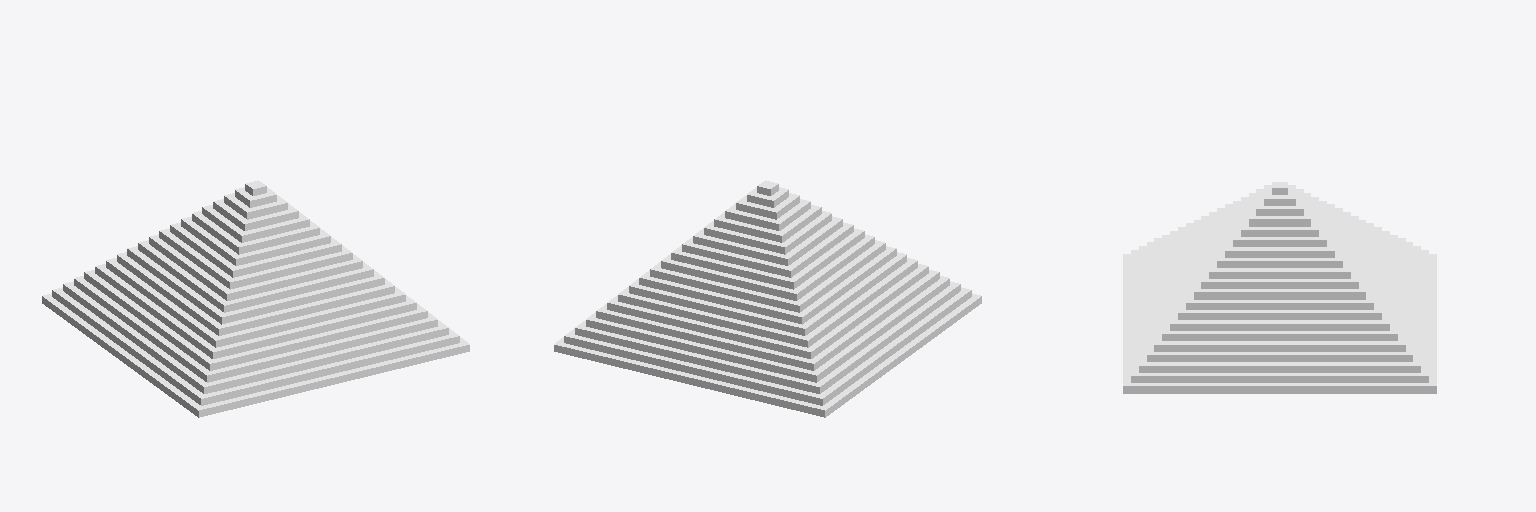
Rendered from piramida.obj.
3 views of the same model, side by side, from view 1: azimuth 30°, elevation 25°; view 2: azimuth 150°, elevation 25°; view 3: azimuth 270°, elevation 25° (orthographic).
Parts seen in each view (by area): view 1: object 1; view 2: object 1; view 3: object 1.
Part boxes in pixels (left/top/right/bottom): object 1: left=42, top=180, right=469, bottom=417; object 1: left=554, top=180, right=981, bottom=417; object 1: left=1123, top=182, right=1436, bottom=393.
Size of the model in its own units: 4 by 2 by 4.